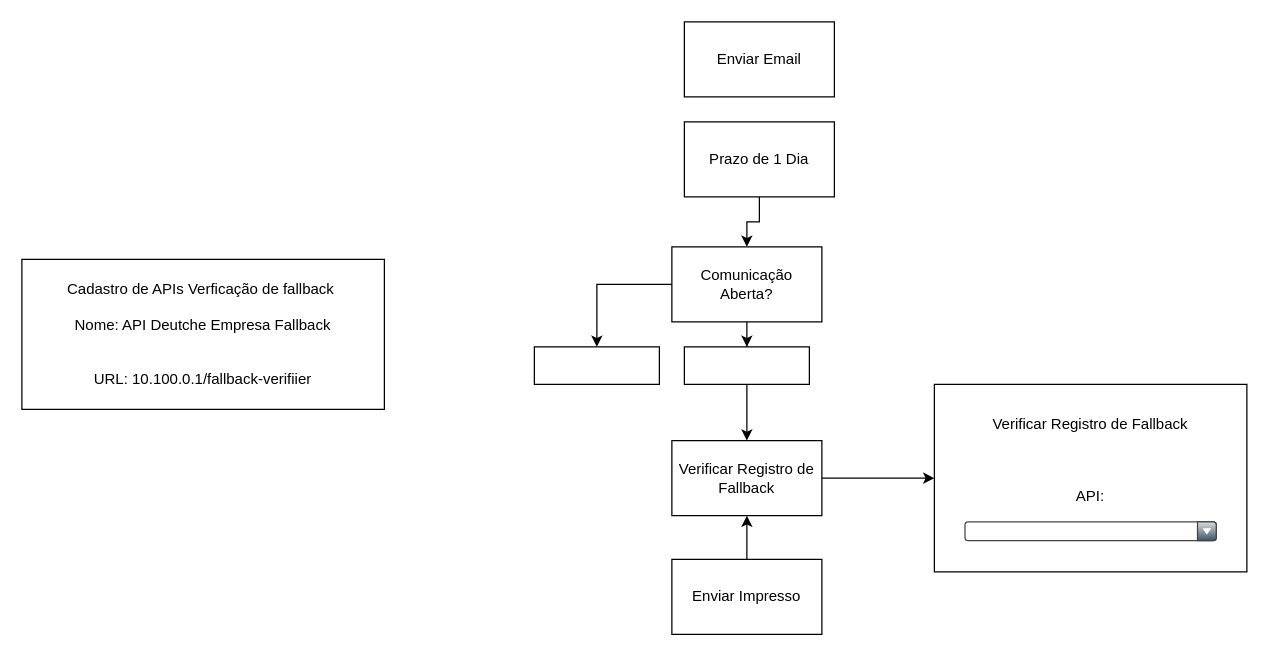
Some shapes in this 1269 by 656 pixel diagram are drawn without their labels. The shapes that lost their labels are listed below. From the top down, each one's centre as x and y in pixels, then its label:
point (596, 365): Sim
point (746, 365): Não
point (1090, 531): API Deutsche Empresa Fallback
